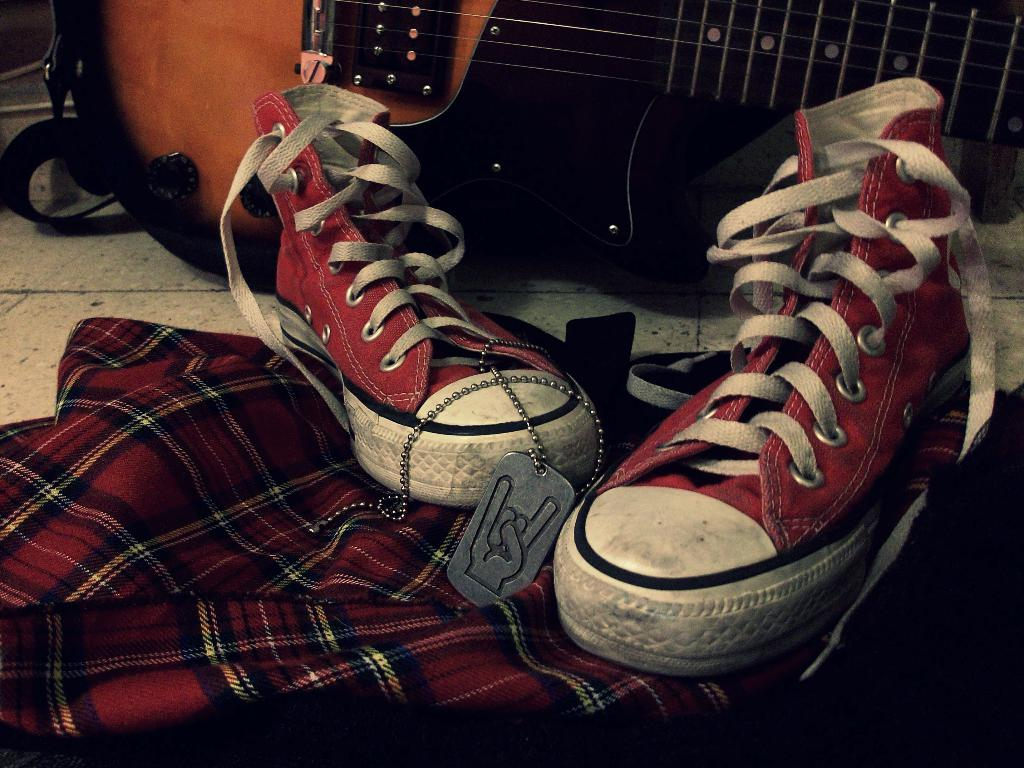Footwear: (562, 93, 972, 709), (221, 78, 609, 511)
